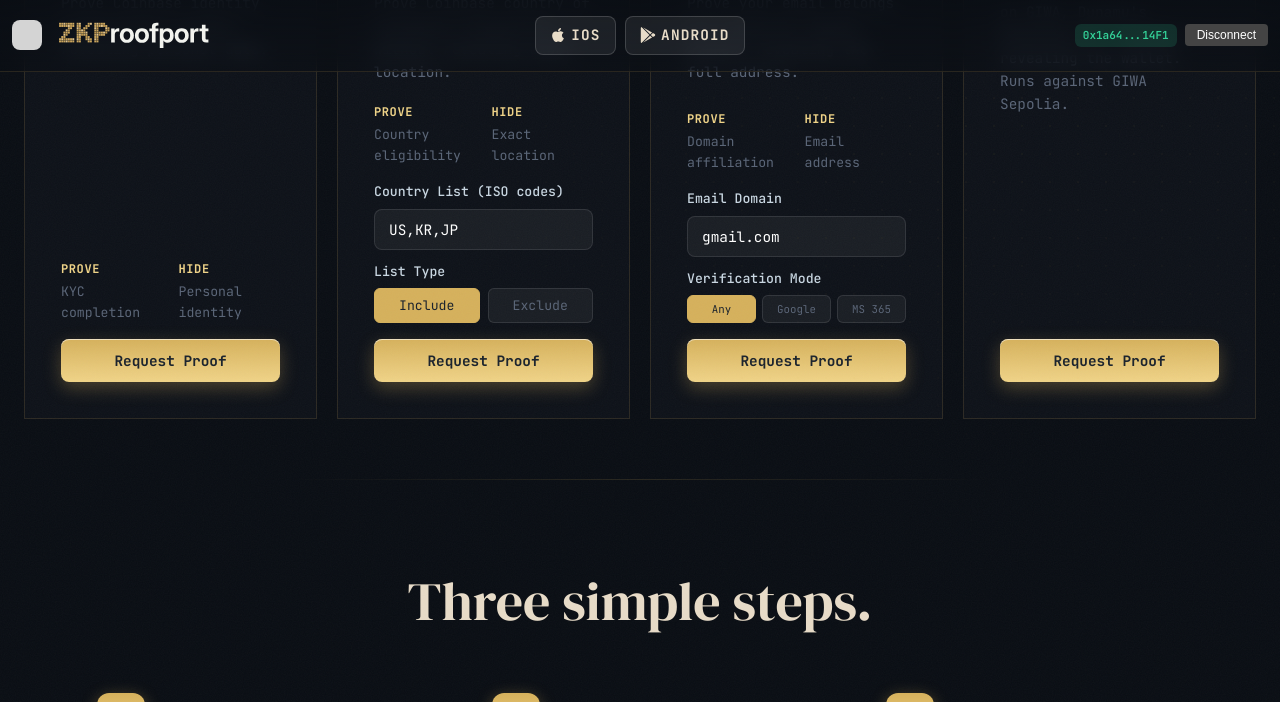
every card on the All demos page ends on the relay’s answer › a failure to create the request is shown instead of leaving the modal blank
The image size is (1280, 702).
(page scrolled)
Click the button "Request Proof" below "KYC completion" at (170, 361), box [61,339,280,382]
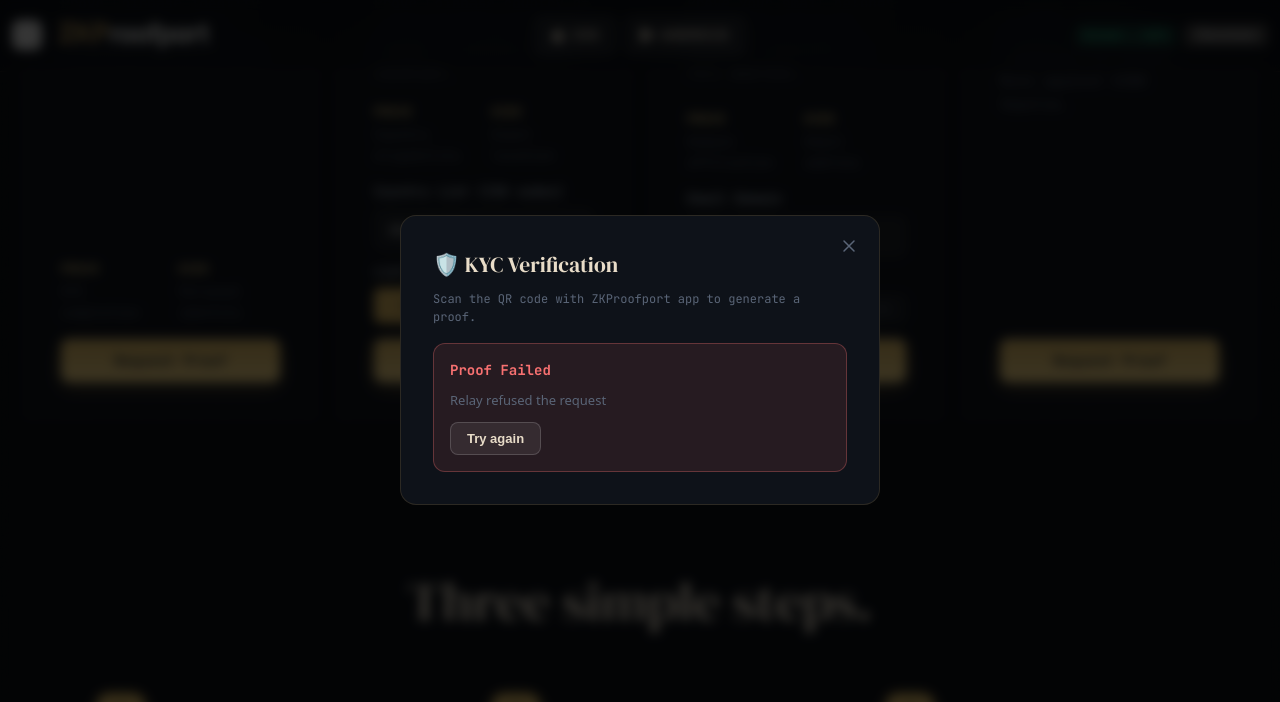
Expected: the message "Proof Failed Relay refused the request Try again" is shown, [433,343,847,472]
